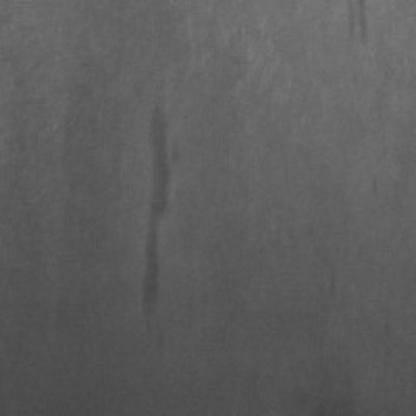inclusion: (135, 98, 187, 339), (339, 6, 381, 56)
